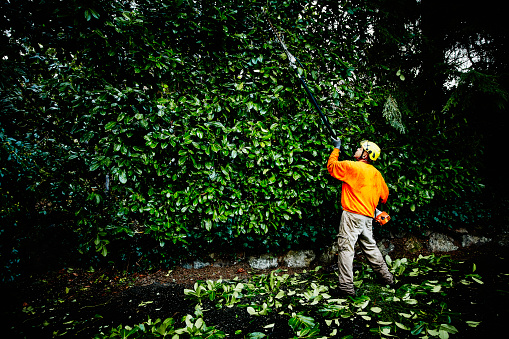em pe: (315, 141, 390, 299)
